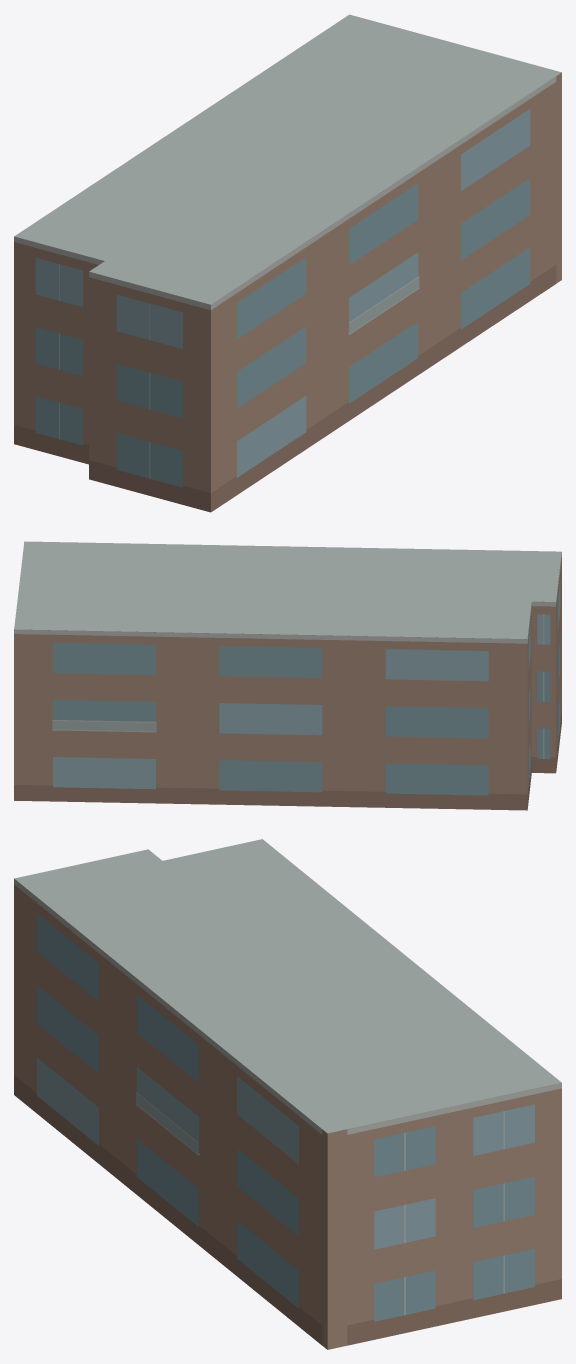
Rendered from survey-upis-32834806.glb.
3 views of the same model, one above another, from view 1: azimuth 30°, elevation 25°; view 2: azimuth 150°, elevation 25°; view 3: azimuth 270°, elevation 25° (orthographic). The views are drawn at different scales.
Visible parts, largest first — view 1: survey-upis-32834806.tmp; view 2: survey-upis-32834806.tmp; view 3: survey-upis-32834806.tmp.
Part boxes in pixels (<box>): survey-upis-32834806.tmp: <box>14,14,561,512</box>; survey-upis-32834806.tmp: <box>14,541,561,810</box>; survey-upis-32834806.tmp: <box>14,839,561,1349</box>.
Size of the model in its own units: 26.7 by 9.15 by 20.99.
